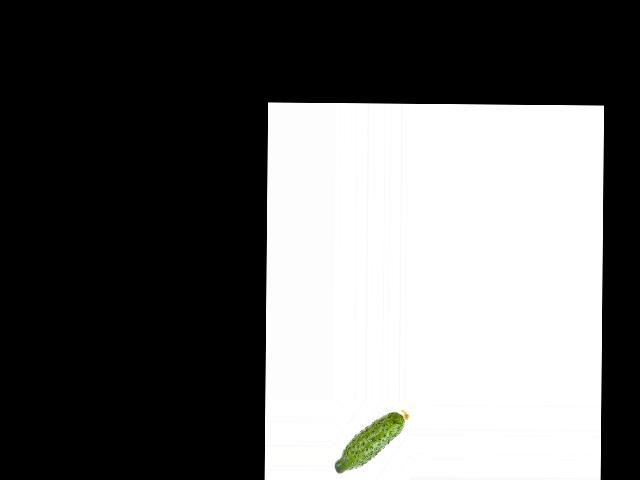cucumber: (335, 409, 409, 474)
